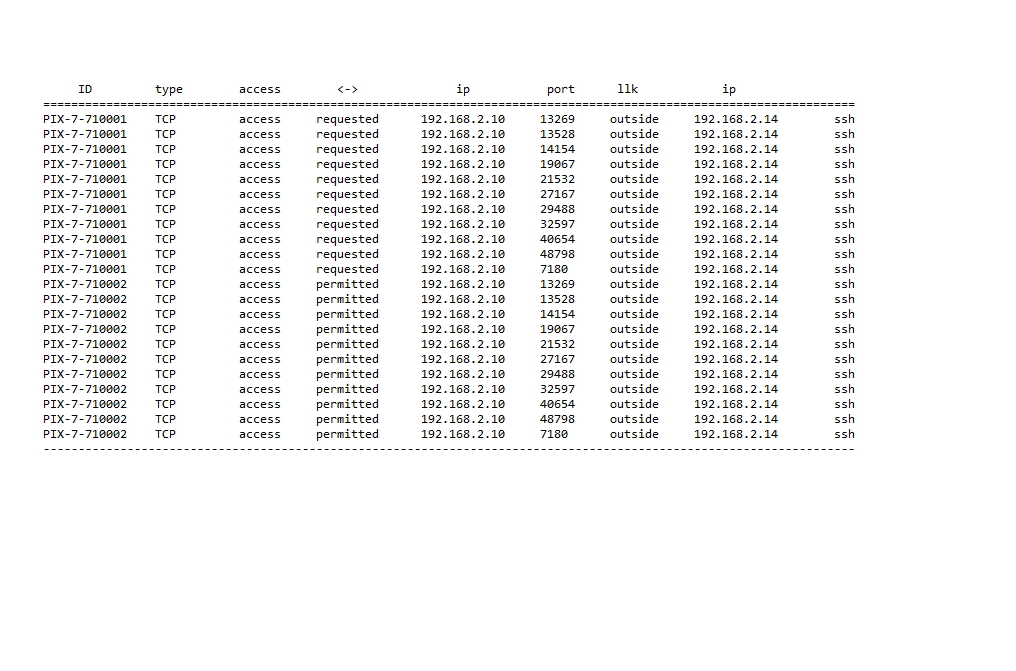table: (36, 81, 865, 460)
